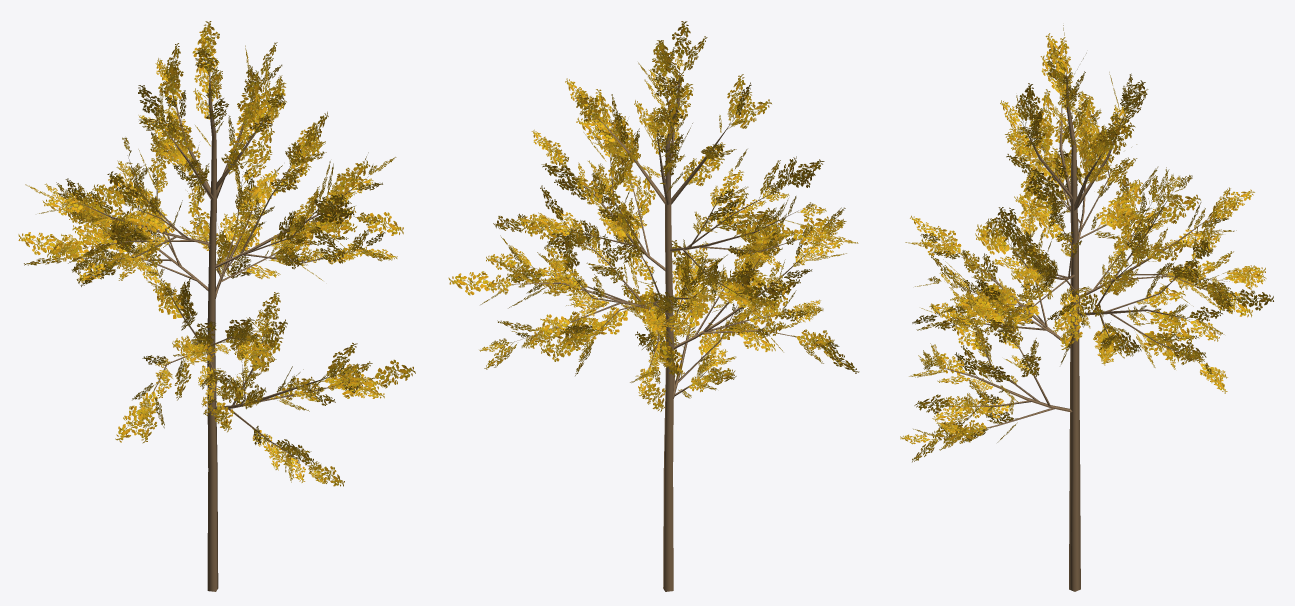
The model's file is old_lod1_tree1.glb.
3 views of the same model, side by side, from view 1: azimuth 30°, elevation 25°; view 2: azimuth 150°, elevation 25°; view 3: azimuth 270°, elevation 25° (orthographic). The views are drawn at different scales.
Visible parts, largest first — view 1: leaves, trunk; view 2: leaves, trunk; view 3: leaves, trunk.
Part boxes in pixels (x1,y1,x2,y2): leaves: (18,21,415,486); trunk: (71,71,368,591); leaves: (448,21,859,411); trunk: (511,70,815,591); leaves: (900,25,1273,462); trunk: (934,69,1229,591).
Size of the model in its own units: 0.6649 by 1 by 0.6188.
2 materials, 1 textured.
